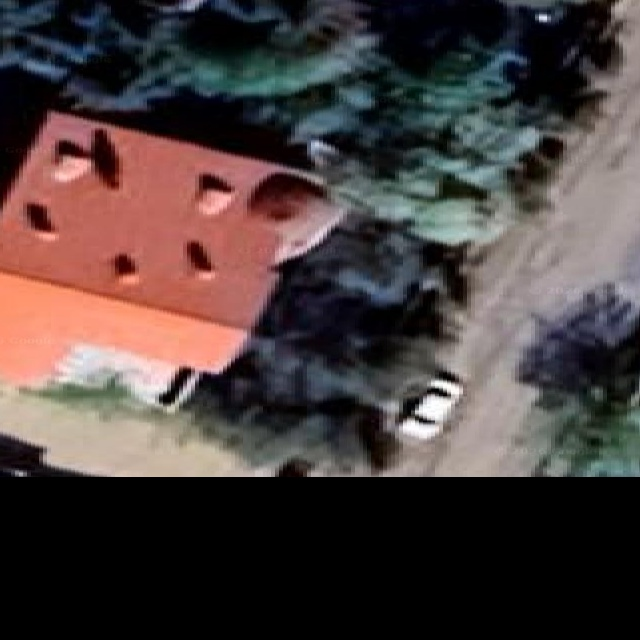car: (392, 371, 463, 440), (0, 433, 88, 476)
